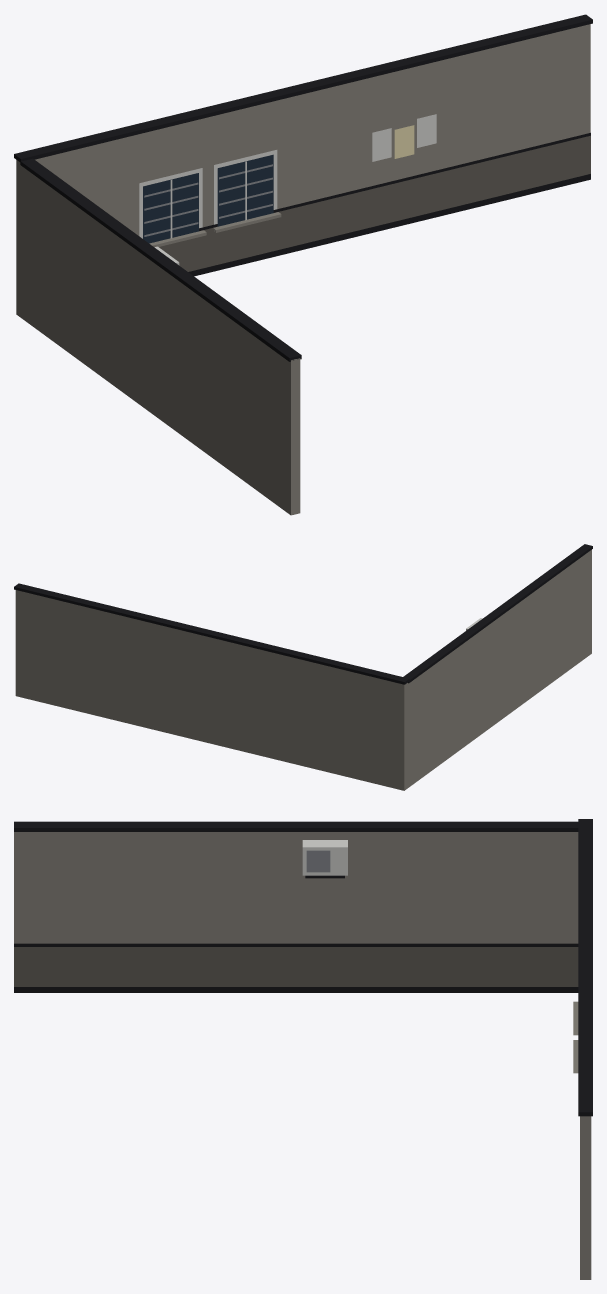
The model's file is bld_room_hub.bc6a34064cca.glb.
3 views of the same model, one above another, from view 1: azimuth 30°, elevation 25°; view 2: azimuth 150°, elevation 25°; view 3: azimuth 270°, elevation 25° (orthographic). The views are drawn at different scales.
Visible parts, largest first — view 1: body; view 2: body; view 3: body.
Part boxes in pixels (bbox=[...]): body: bbox=[14, 14, 592, 515]; body: bbox=[14, 544, 592, 790]; body: bbox=[14, 819, 592, 1279].
Size of the model in its own units: 12.26 by 3.28 by 10.23.
